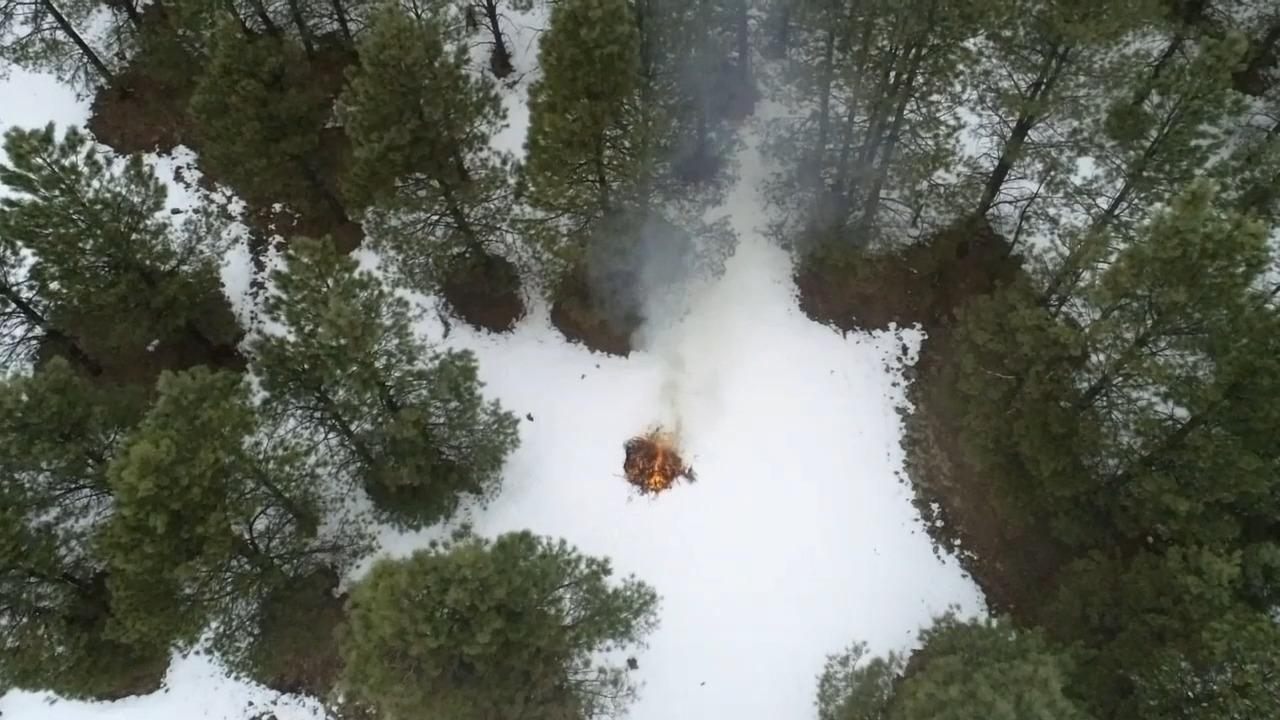fire: (619, 414, 684, 494)
smoke: (594, 227, 679, 332)
